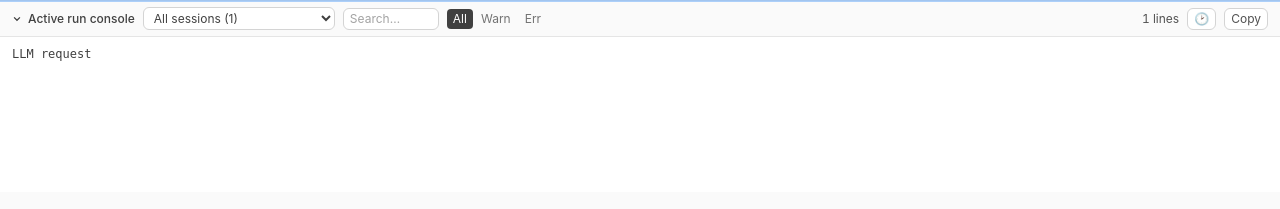
Console › labels bounded request fields when their previews are truncated
Select "Bounded request · Claude" in the dropdown at point(239, 18), box [143, 7, 335, 30]
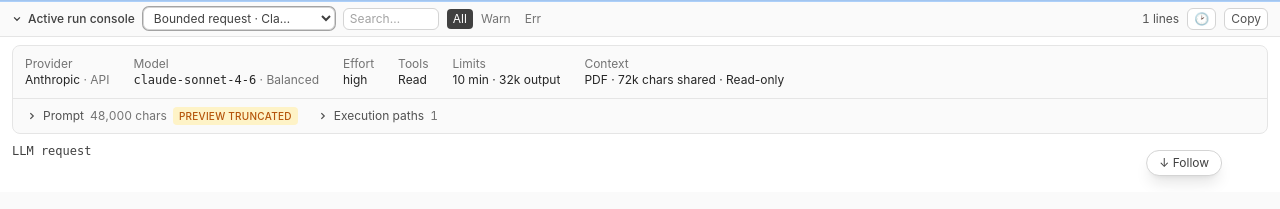
Expected: the text "Preview truncated" is shown, [173, 107, 298, 125]
Click the button "Prompt 48,000 chars Preview truncated" at point(162, 116), box [19, 103, 306, 129]
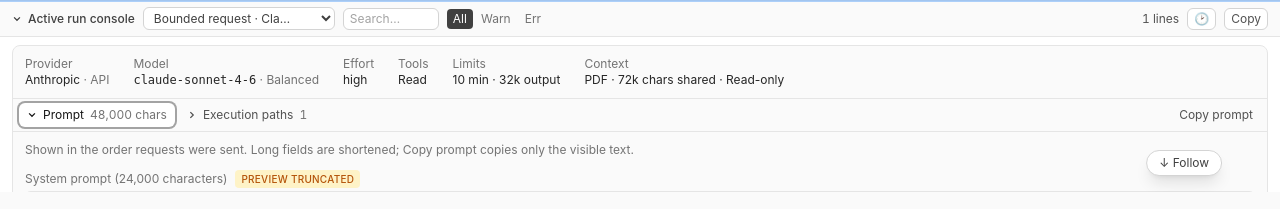
Expected: the text "Preview truncated" is shown 3 times
Expected: the text "System prompt (24,000 characters)" is shown, [25, 171, 227, 187]
Expected: the text "Copy prompt copies only the visible text" is shown, [247, 142, 634, 157]
